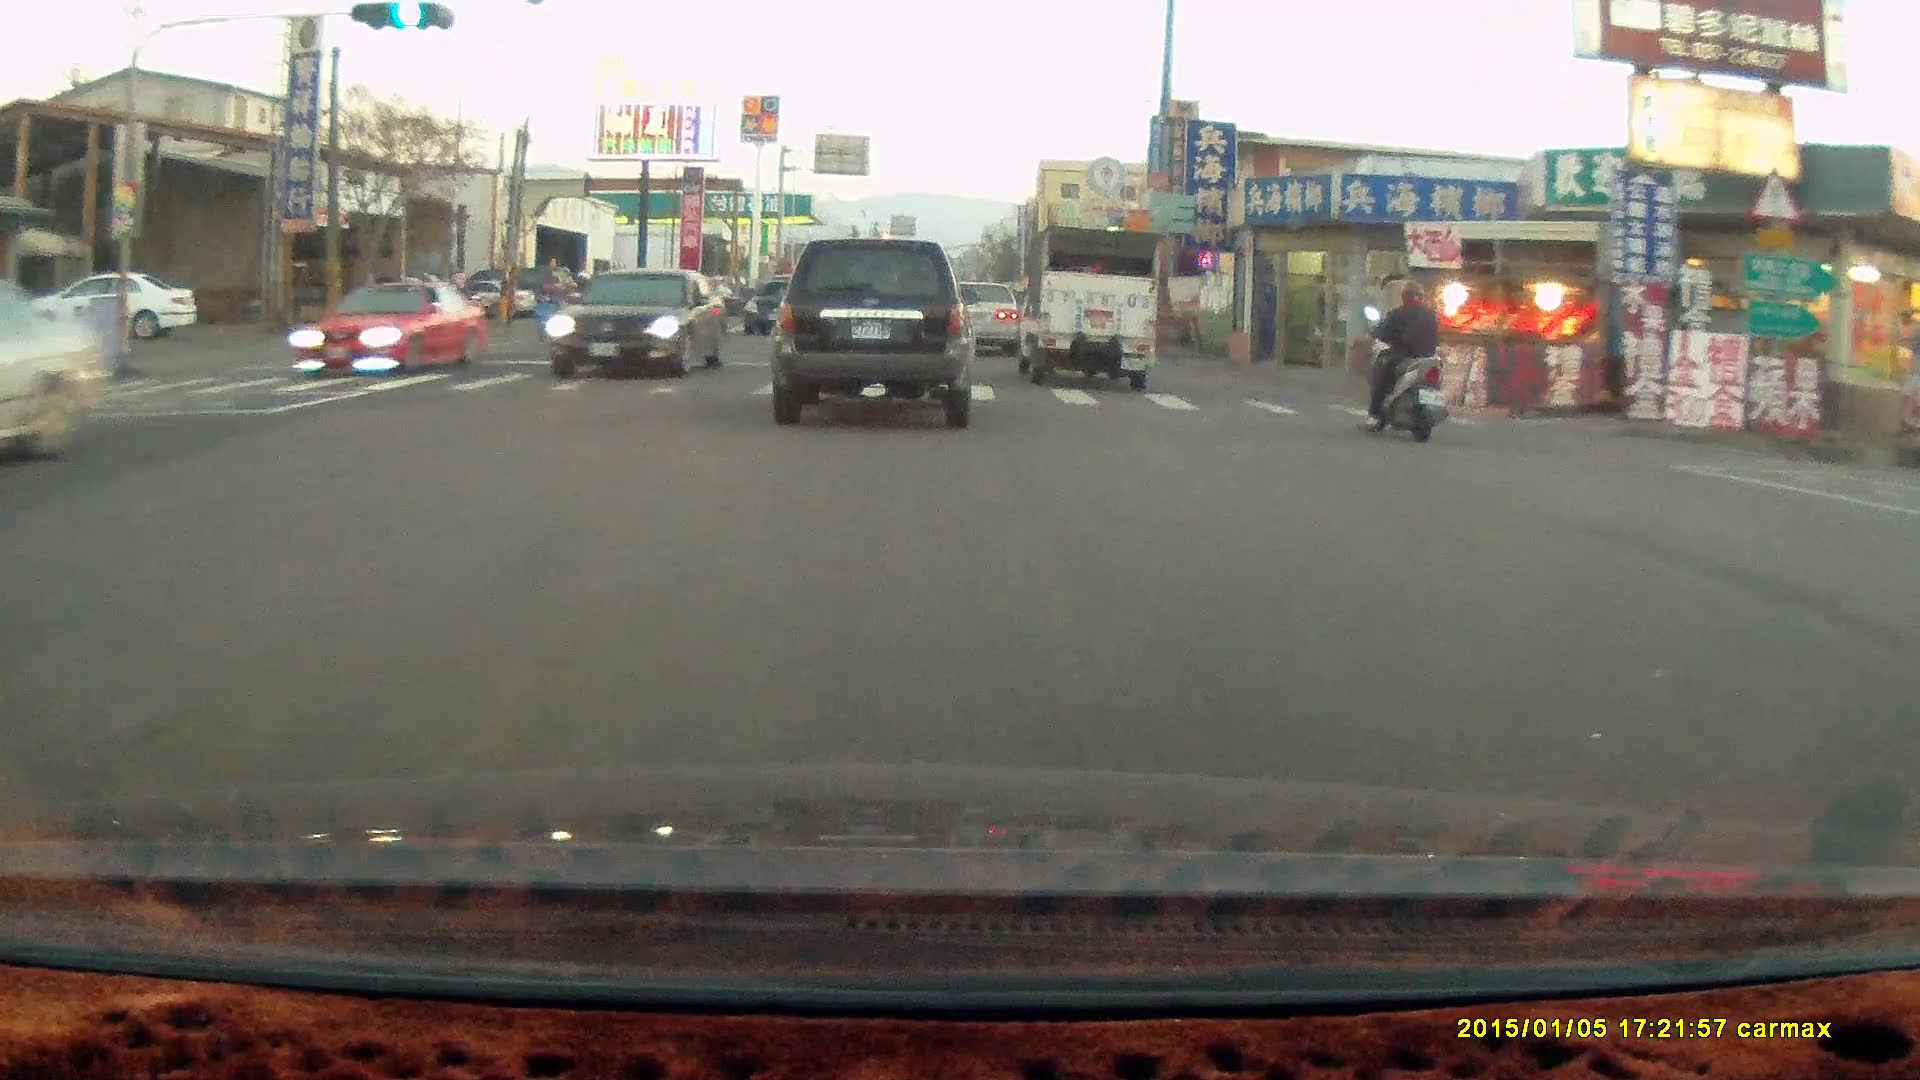rider: (1358, 281, 1447, 447), (527, 275, 566, 340)
vehicle: (767, 238, 981, 427), (1012, 222, 1162, 391), (1, 276, 113, 479), (546, 266, 733, 381), (291, 278, 485, 380), (15, 272, 200, 344), (938, 279, 1021, 355), (957, 285, 1032, 364), (742, 276, 828, 337)
